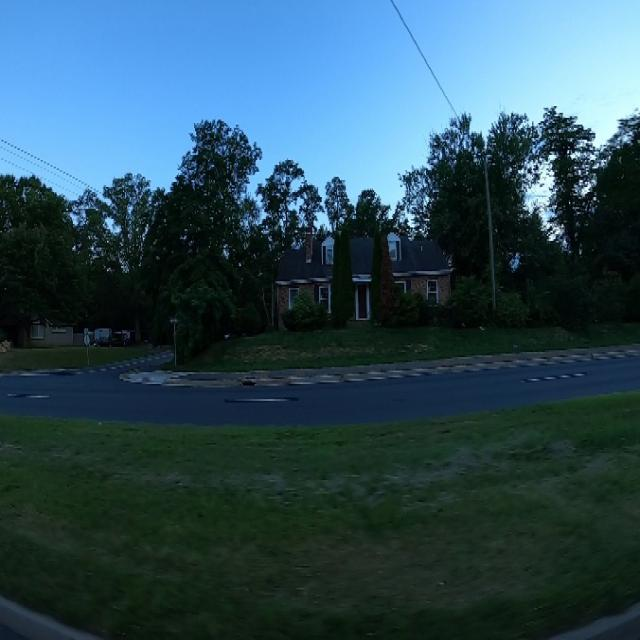cars: (104, 318, 136, 355)
